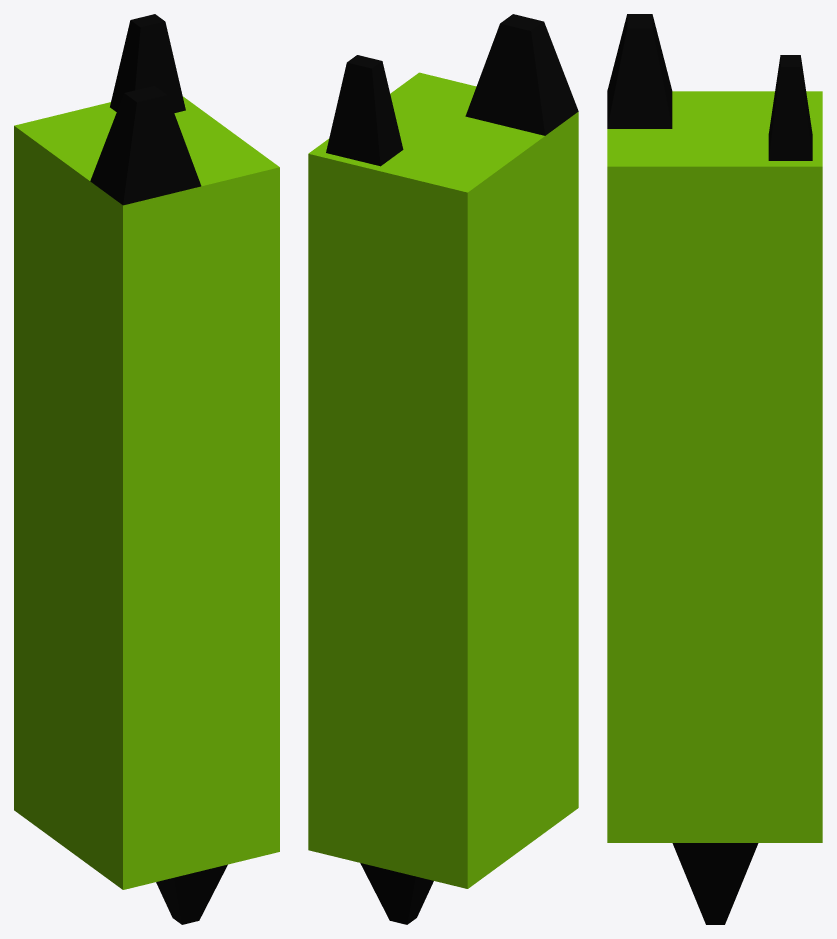
The model's file is Fusible_1_fake.fbx.
3 views of the same model, side by side, from view 1: azimuth 30°, elevation 25°; view 2: azimuth 150°, elevation 25°; view 3: azimuth 270°, elevation 25° (orthographic). The views are drawn at different scales.
Visible parts, largest first — view 1: Fusible.009; view 2: Fusible.009; view 3: Fusible.009.
Boxes of the visible parts, bbox=[...] form: Fusible.009: bbox=[14, 14, 279, 924]; Fusible.009: bbox=[308, 14, 578, 924]; Fusible.009: bbox=[607, 14, 822, 924].
Bounding box in the file's own units: 47.93 × 255 × 57.74.
